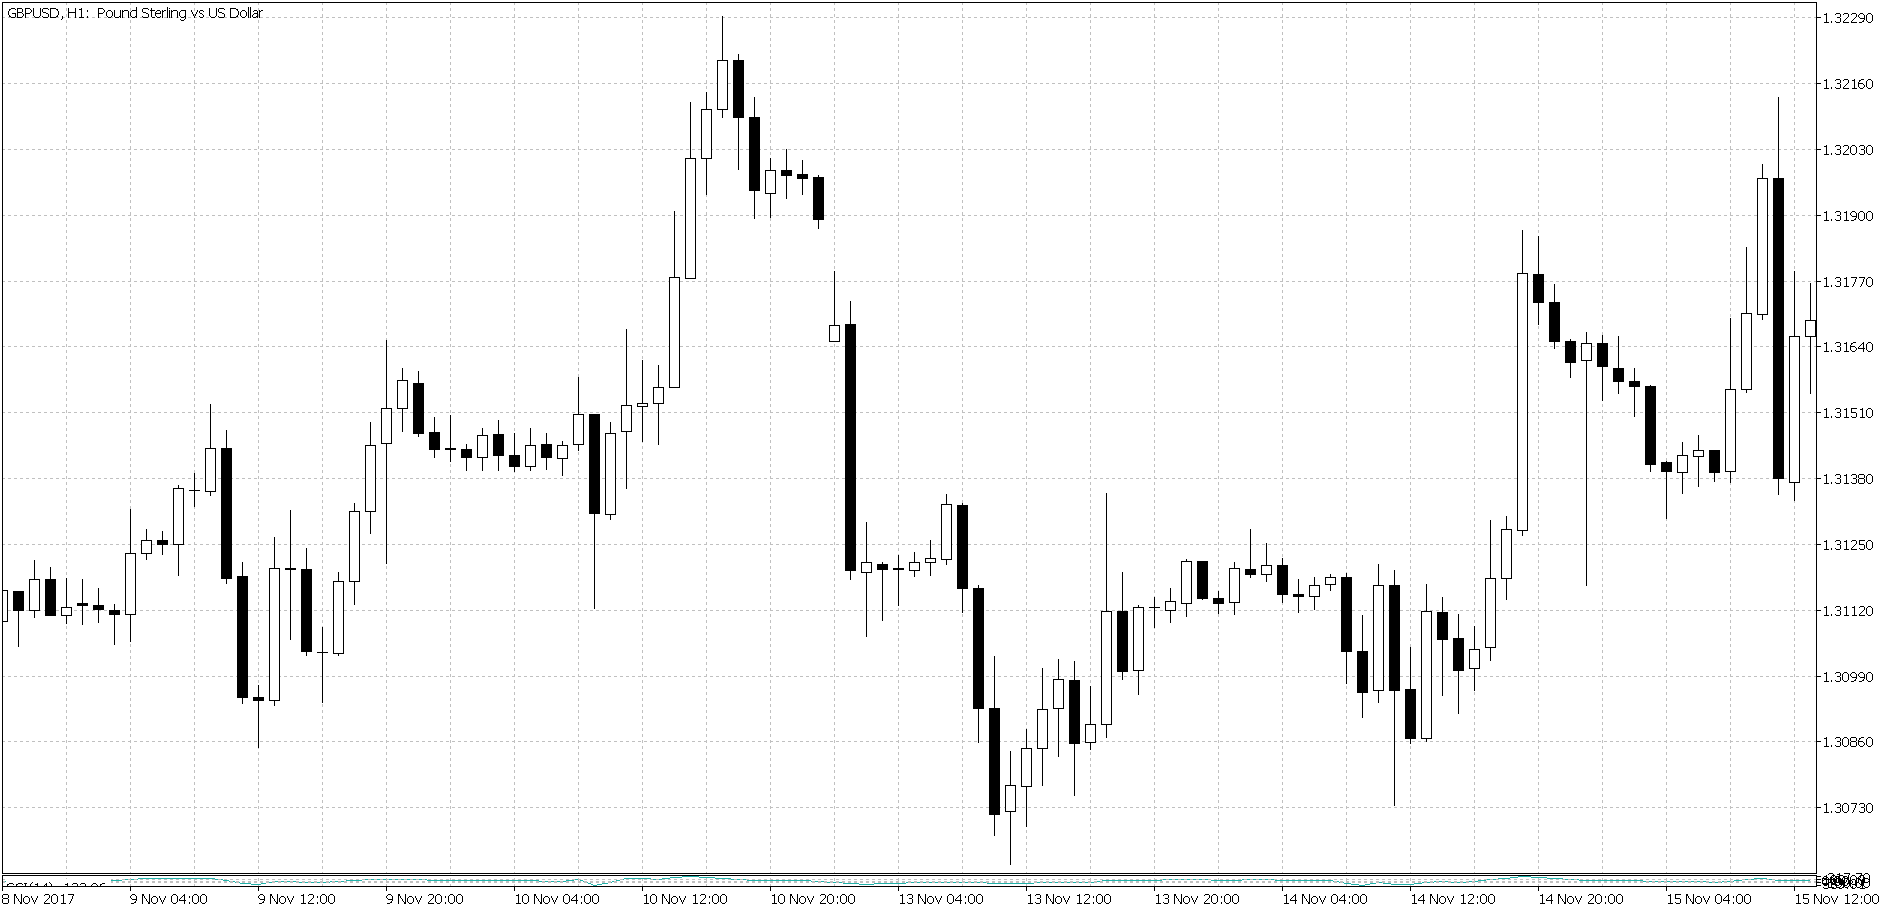3blackcrows: (955, 492, 1003, 847)
3whitesoldiers: (1003, 681, 1051, 851)
bearishEngulfing: (715, 50, 745, 143)
hangingMan: (1658, 456, 1673, 514)
morningDojiStar: (297, 546, 345, 704)
